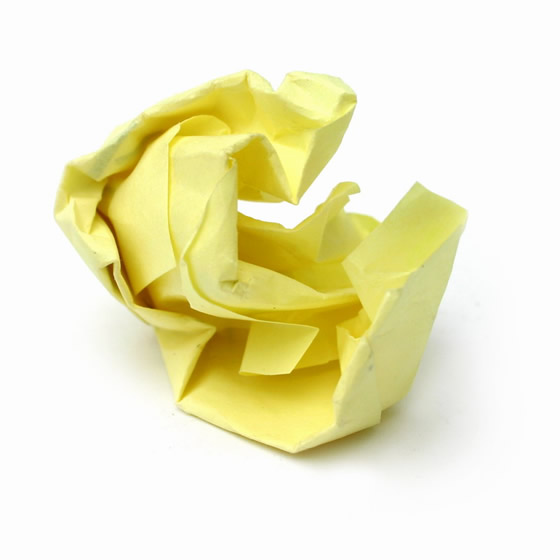flexible: (50, 59, 468, 455)
